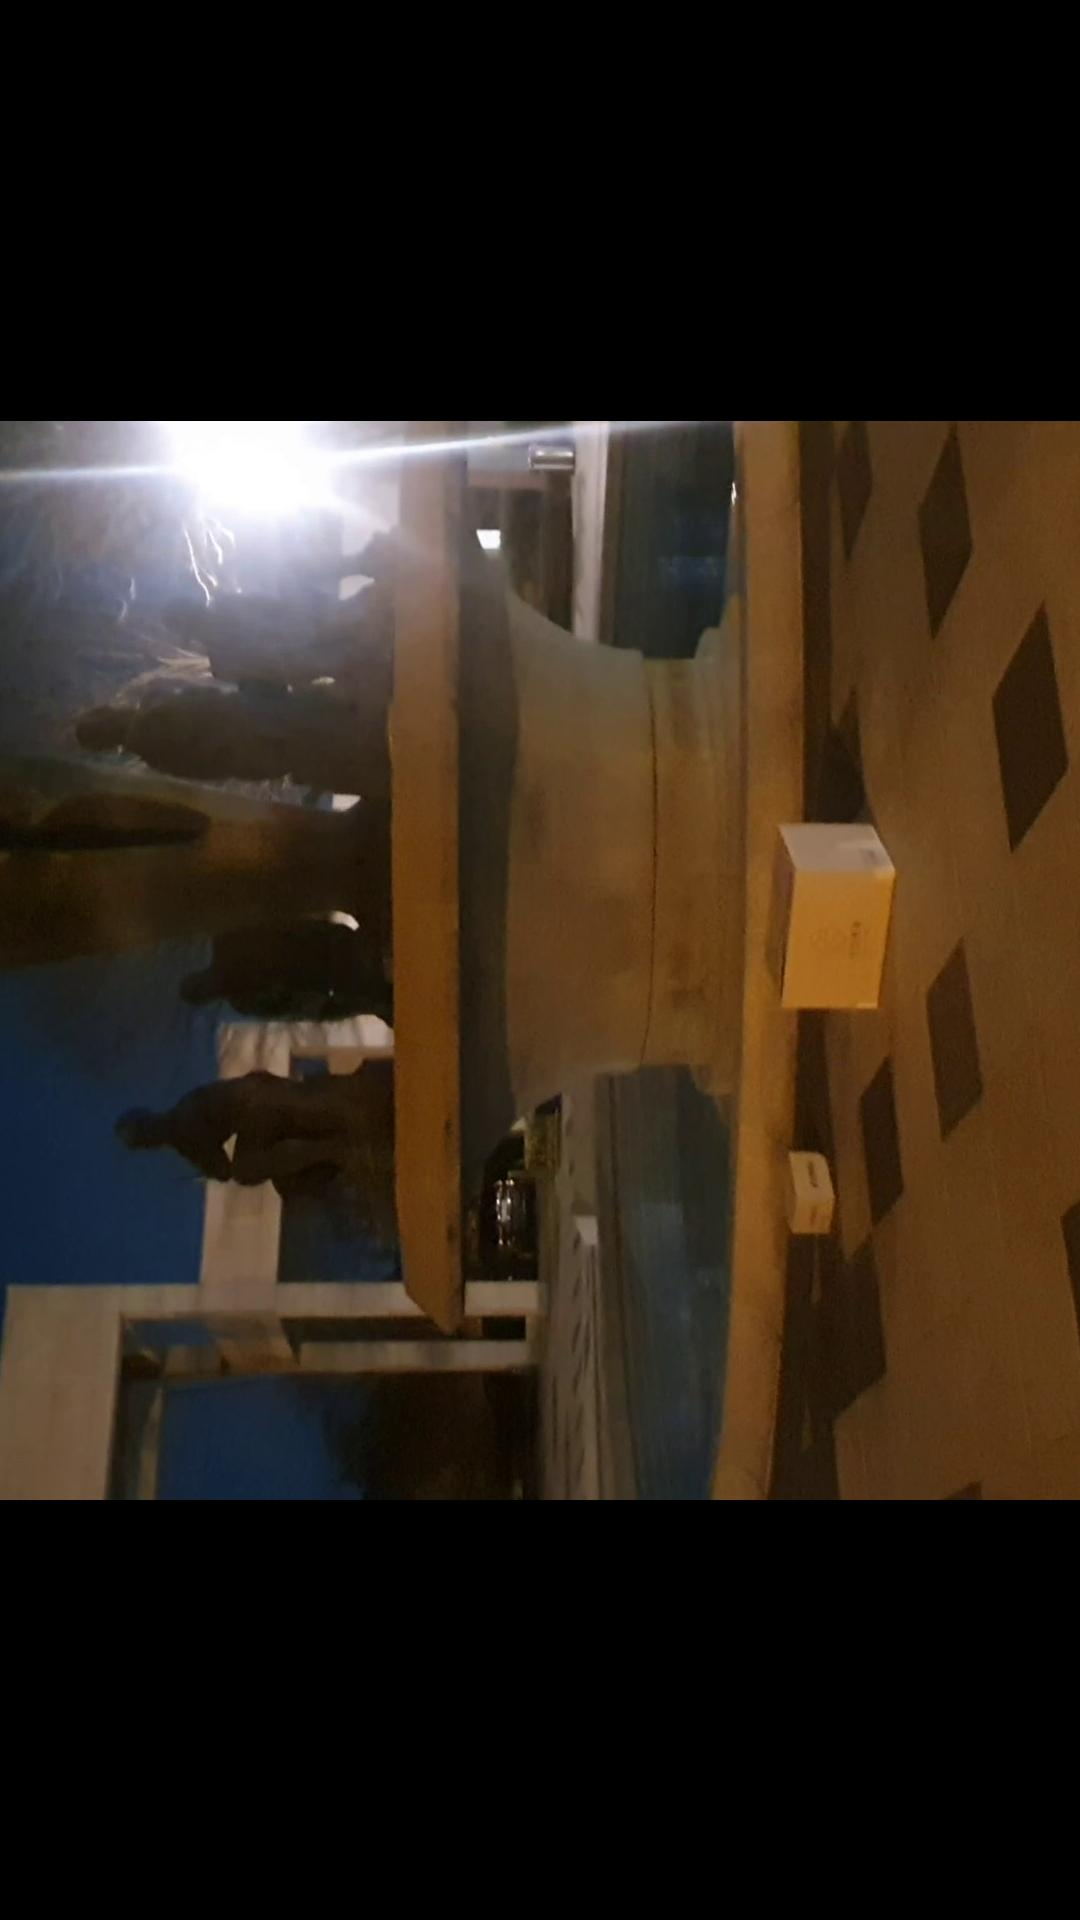Box: (753, 816, 905, 1022), (770, 1133, 852, 1237)
